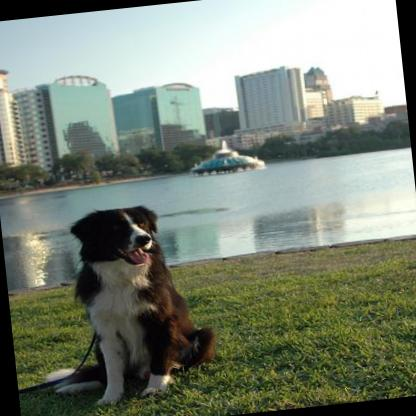Border_collie: (7, 200, 220, 416)
